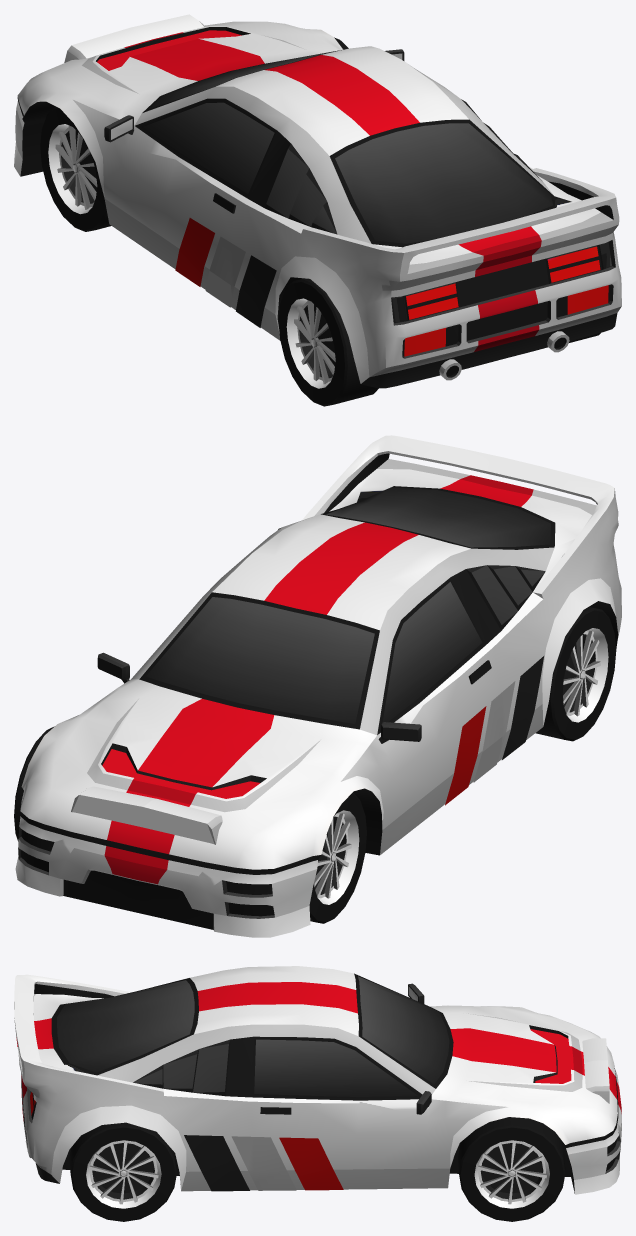
The model's file is CAR3.fbx.
The picture shows the model from 3 angles, top to bottom: view 1: azimuth 30°, elevation 25°; view 2: azimuth 150°, elevation 25°; view 3: azimuth 270°, elevation 25°; orthographic projection. The views are drawn at different scales.
Visible parts, largest first — view 1: Demo_Do_Not_Use_Texture_Atlas_0.007, Demo_Do_Not_Use_Texture_Atlas_0.002, Demo_Do_Not_Use_Texture_Atlas_0.004; view 2: Demo_Do_Not_Use_Texture_Atlas_0.007, Demo_Do_Not_Use_Texture_Atlas_0.002, Demo_Do_Not_Use_Texture_Atlas_0.004; view 3: Demo_Do_Not_Use_Texture_Atlas_0.007, Demo_Do_Not_Use_Texture_Atlas_0.003, Demo_Do_Not_Use_Texture_Atlas_0.001.
Part boxes in pixels (left/top/right/bottom): Demo_Do_Not_Use_Texture_Atlas_0.007: left=14, top=14, right=621, bottom=388; Demo_Do_Not_Use_Texture_Atlas_0.002: left=278, top=278, right=378, bottom=406; Demo_Do_Not_Use_Texture_Atlas_0.004: left=40, top=106, right=111, bottom=231; Demo_Do_Not_Use_Texture_Atlas_0.007: left=15, top=435, right=621, bottom=937; Demo_Do_Not_Use_Texture_Atlas_0.002: left=535, top=606, right=616, bottom=741; Demo_Do_Not_Use_Texture_Atlas_0.004: left=309, top=792, right=366, bottom=923; Demo_Do_Not_Use_Texture_Atlas_0.007: left=14, top=966, right=621, bottom=1194; Demo_Do_Not_Use_Texture_Atlas_0.003: left=458, top=1117, right=565, bottom=1221; Demo_Do_Not_Use_Texture_Atlas_0.001: left=69, top=1122, right=176, bottom=1221.
Size of the model in its own units: 200 by 134 by 426.
Materials: 2 (2 with a texture image).
